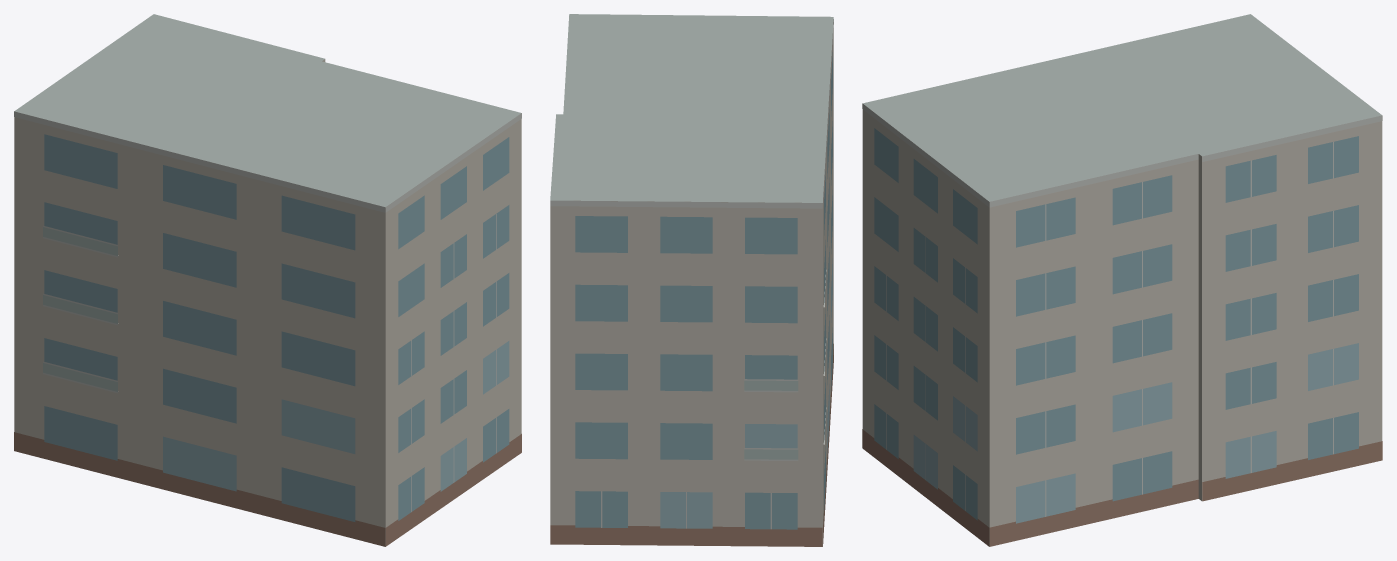
Rendered from survey-upis-32666032.glb.
The picture shows the model from 3 angles, left to right: view 1: azimuth 30°, elevation 25°; view 2: azimuth 150°, elevation 25°; view 3: azimuth 270°, elevation 25°; orthographic projection.
Parts seen in each view (by area): view 1: survey-upis-32666032.tmp; view 2: survey-upis-32666032.tmp; view 3: survey-upis-32666032.tmp.
Boxes of the visible parts, <box> form: survey-upis-32666032.tmp: <box>14,14,521,546</box>; survey-upis-32666032.tmp: <box>550,14,833,546</box>; survey-upis-32666032.tmp: <box>862,14,1382,546</box>.
Size of the model in its own units: 17.18 by 14.7 by 20.09.
